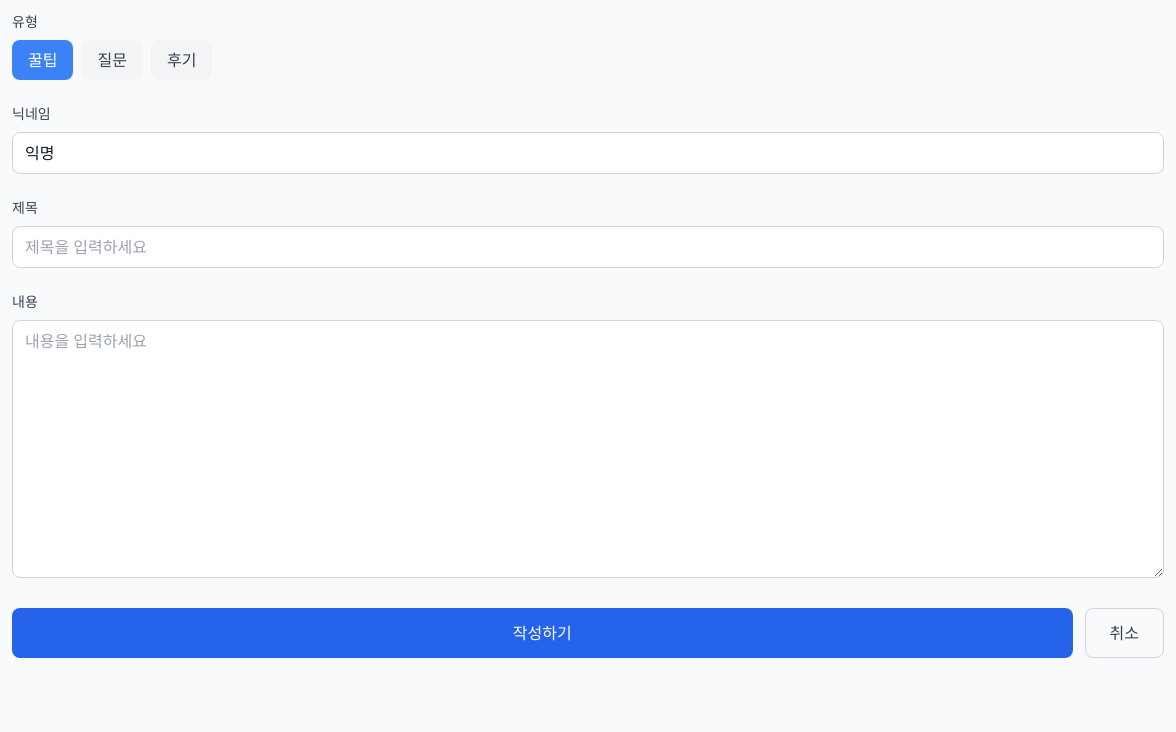
Test: PostForm › should show error when content is empty
Type "제목" into the field labelled "제목" at (588, 247), box [12,226,1164,268]
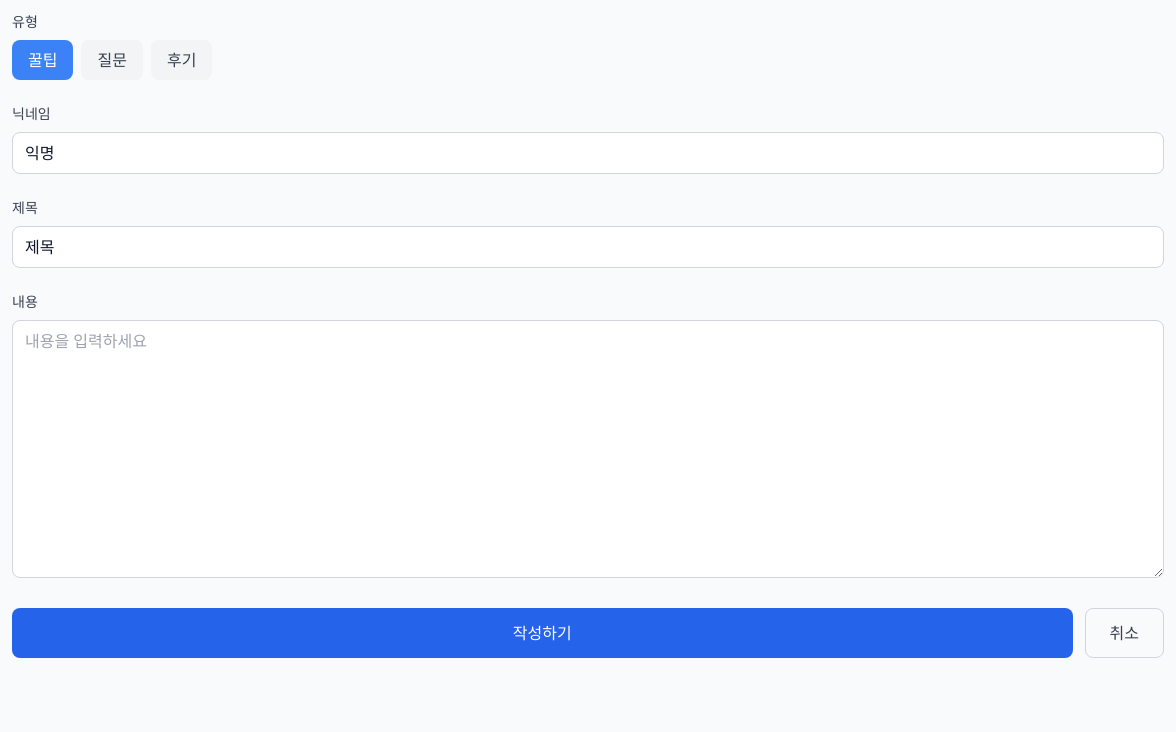
Click the button "작성하기" at (542, 633), box [12,608,1072,658]
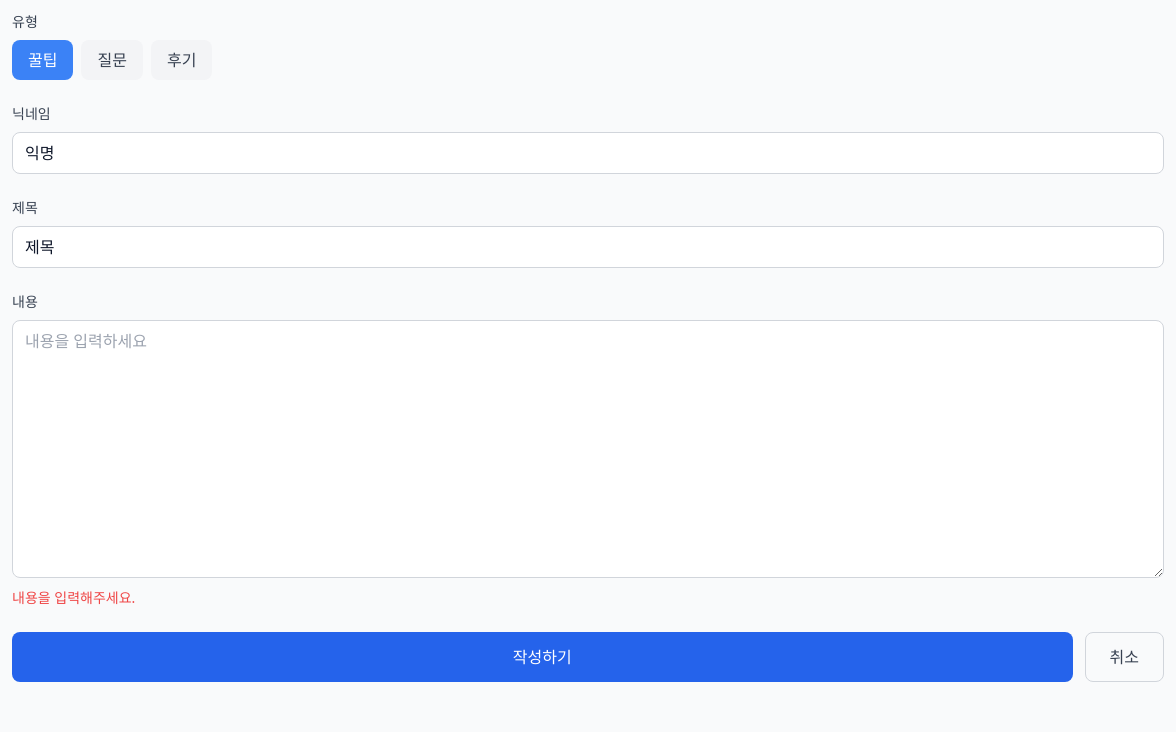
Expected: the text "내용을 입력해주세요." is shown, [12,588,135,607]
